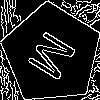M: (26, 29, 86, 88)
